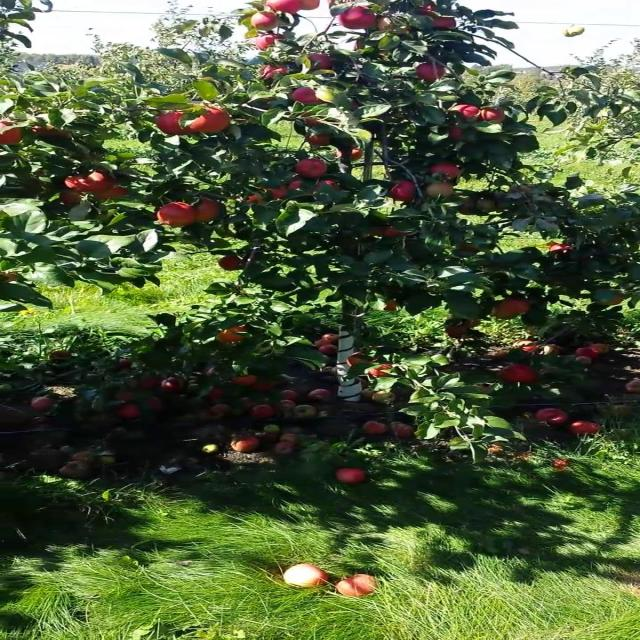apple: (63, 172, 116, 193), (191, 108, 233, 134), (156, 112, 197, 136), (156, 204, 196, 228), (340, 8, 377, 32), (504, 364, 540, 384), (191, 200, 220, 223), (376, 16, 412, 34), (497, 300, 533, 316), (390, 184, 420, 203), (419, 64, 448, 83), (298, 160, 327, 179), (596, 292, 628, 308), (1, 124, 23, 146), (454, 104, 482, 121), (433, 164, 462, 180), (298, 88, 327, 104), (220, 328, 249, 344), (255, 12, 279, 31), (269, 0, 299, 15), (255, 36, 284, 51), (348, 352, 375, 368), (447, 324, 475, 339), (426, 184, 455, 198), (220, 256, 244, 272), (99, 188, 128, 201), (348, 352, 373, 367), (369, 364, 393, 379), (447, 324, 471, 339), (547, 244, 574, 257), (262, 68, 290, 80), (483, 108, 505, 123), (312, 56, 334, 71), (305, 136, 334, 147), (340, 148, 363, 161), (476, 200, 500, 212), (454, 128, 476, 141), (63, 192, 84, 205), (35, 124, 57, 136), (433, 20, 459, 30), (419, 4, 439, 17), (305, 112, 322, 127), (269, 188, 290, 200), (383, 300, 402, 313), (461, 200, 476, 216), (383, 228, 404, 239), (291, 180, 309, 192), (319, 180, 340, 190), (497, 308, 514, 320), (291, 180, 306, 192), (298, 4, 320, 12), (454, 128, 466, 141), (248, 196, 263, 204), (355, 40, 364, 52)
